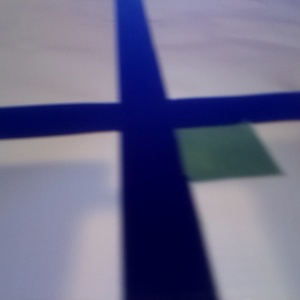bottom_right: (123, 102, 281, 179)
